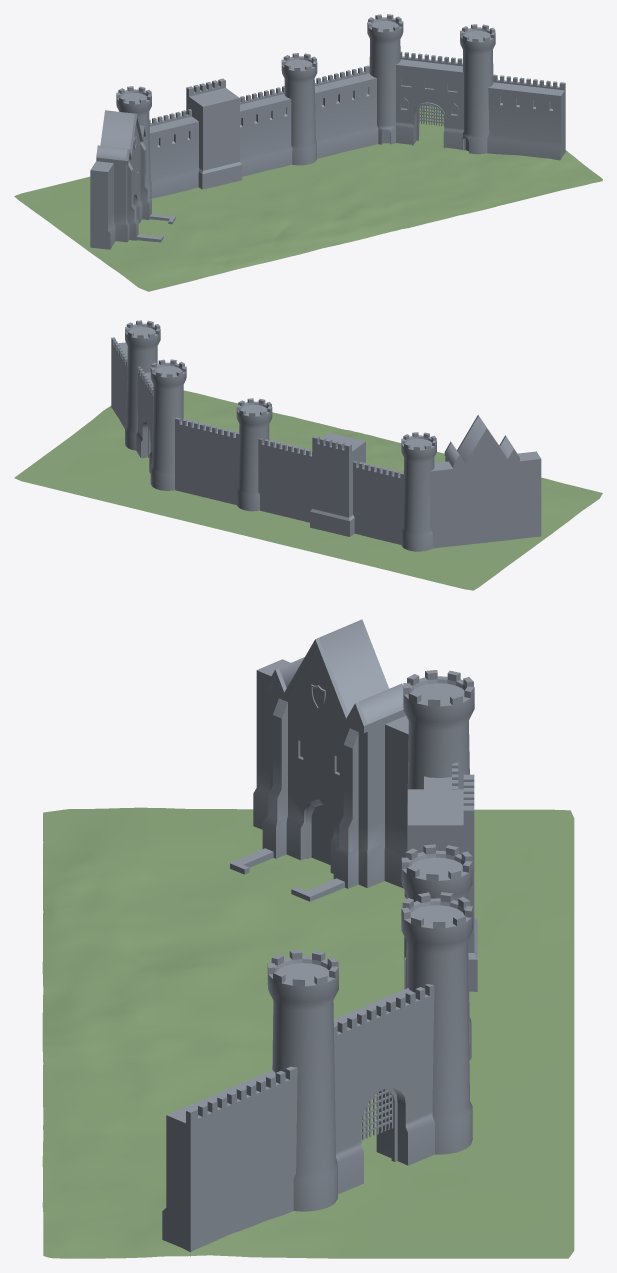
Rendered from dvor_111.fbx.
3 views of the same model, one above another, from view 1: azimuth 30°, elevation 25°; view 2: azimuth 150°, elevation 25°; view 3: azimuth 270°, elevation 25° (orthographic). The views are drawn at different scales.
Visible parts, largest first — view 1: pPlane1, pCube40, pCube67, polySurface86, pCube15, pCube17, pCube70, pCube71, polySurface124, polySurface130, polySurface129, polySurface133 (+1 smaller); view 2: pPlane1, pCube40, pCube15, pCube17, pCube70, pCube71, polySurface130, polySurface133, polySurface129, polySurface124, polySurface86, pCube67; view 3: pPlane1, pCube40, pCube67, polySurface86, polySurface124, polySurface130, polySurface133, pCube17, polySurface129, polySurface128.
Part boxes in pixels (left/top/right/bottom): pPlane1: left=14, top=105, right=602, bottom=291; pCube40: left=90, top=110, right=175, bottom=249; pCube67: left=487, top=74, right=565, bottom=160; polySurface86: left=396, top=51, right=465, bottom=150; pCube15: left=314, top=65, right=378, bottom=158; pCube17: left=186, top=78, right=242, bottom=189; pCube70: left=240, top=86, right=292, bottom=176; pCube71: left=149, top=109, right=198, bottom=198; polySurface124: left=460, top=24, right=495, bottom=154; polySurface130: left=367, top=14, right=403, bottom=144; polySurface129: left=281, top=53, right=317, bottom=165; polySurface133: left=116, top=86, right=151, bottom=199; pPlane1: left=14, top=390, right=602, bottom=590; pCube40: left=430, top=415, right=541, bottom=548; pCube15: left=175, top=417, right=239, bottom=504; pCube17: left=310, top=432, right=365, bottom=536; pCube70: left=258, top=438, right=312, bottom=522; pCube71: left=353, top=461, right=403, bottom=544; polySurface130: left=150, top=359, right=186, bottom=490; polySurface133: left=401, top=432, right=436, bottom=551; polySurface129: left=236, top=398, right=272, bottom=511; polySurface124: left=125, top=320, right=160, bottom=450; polySurface86: left=136, top=366, right=153, bottom=473; pCube67: left=111, top=337, right=127, bottom=428; pPlane1: left=42, top=807, right=574, bottom=1258; pCube40: left=230, top=619, right=408, bottom=901; pCube67: left=162, top=1066, right=297, bottom=1256; polySurface86: left=333, top=984, right=434, bottom=1194; polySurface124: left=267, top=949, right=338, bottom=1211; polySurface130: left=401, top=892, right=472, bottom=1154; polySurface133: left=403, top=670, right=474, bottom=898; pCube17: left=404, top=774, right=477, bottom=991; polySurface129: left=401, top=844, right=472, bottom=1060; polySurface128: left=361, top=1088, right=393, bottom=1140.
Bounding box in the file's own units: 109 × 26.3 × 54.29.
